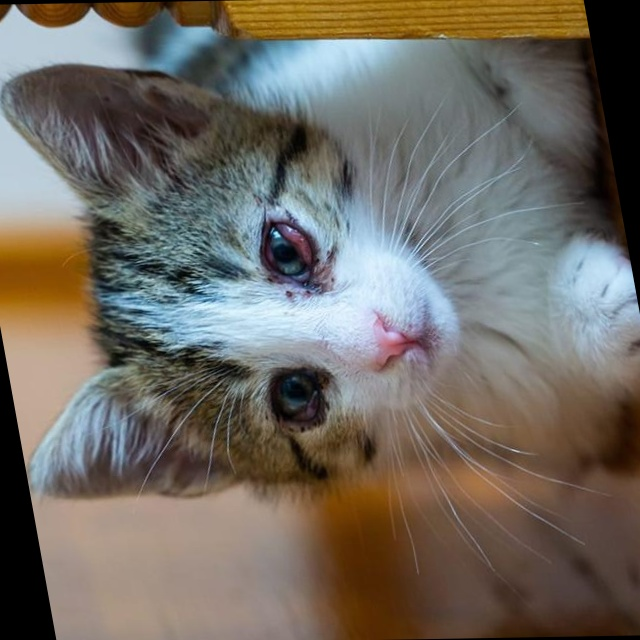eye_infection: (251, 213, 326, 295), (257, 368, 329, 422)
